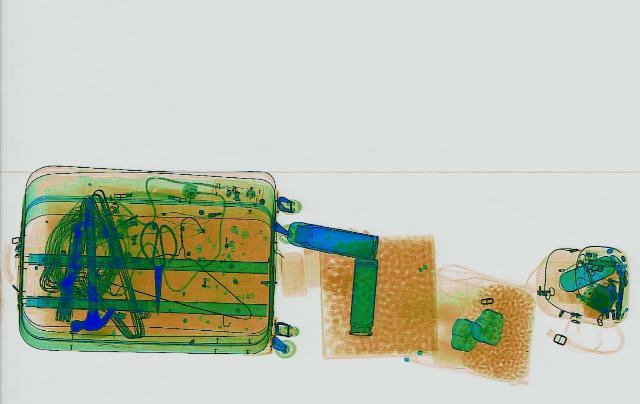Scissors: (138, 220, 178, 313)
